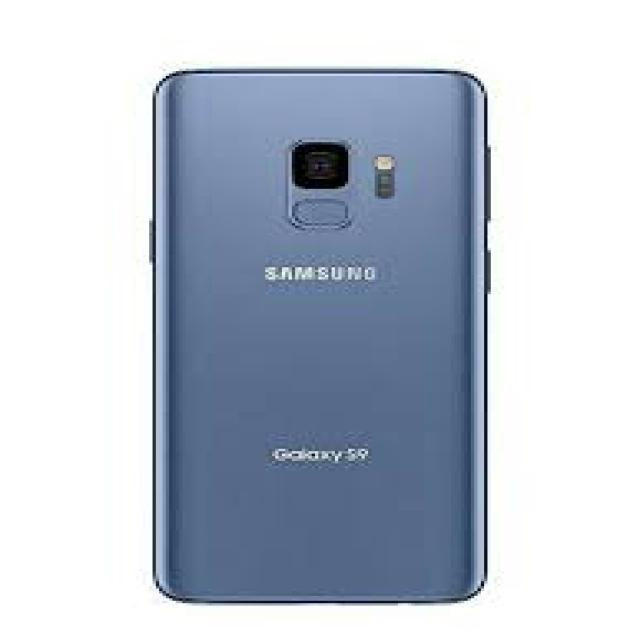mobile phone: (146, 64, 491, 603)
